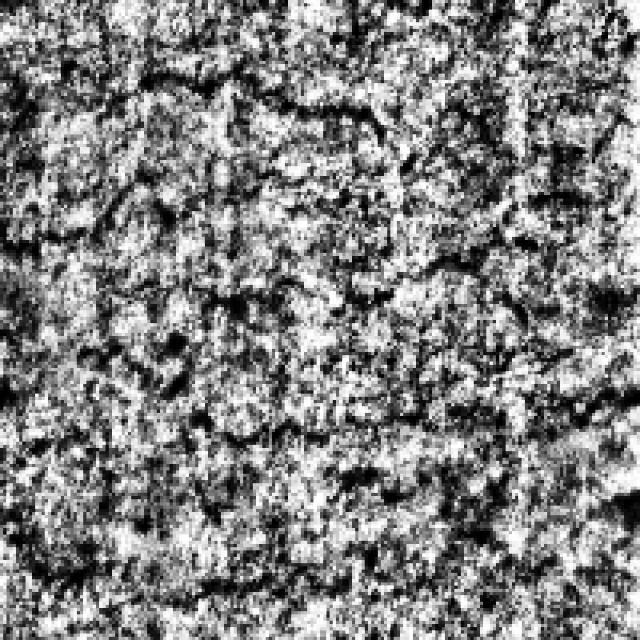Pitted_Surface: (0, 48, 541, 342), (0, 380, 534, 601)
